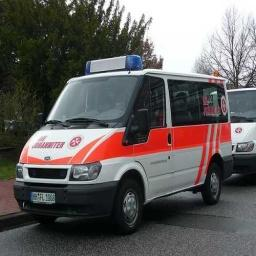ambulance: (14, 55, 232, 233)
